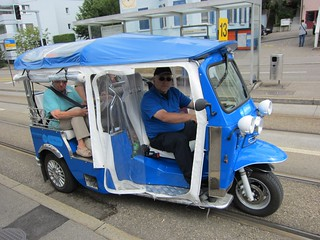threewheel: (11, 35, 288, 218)
